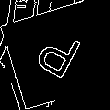P_SW: (26, 24, 84, 86)
